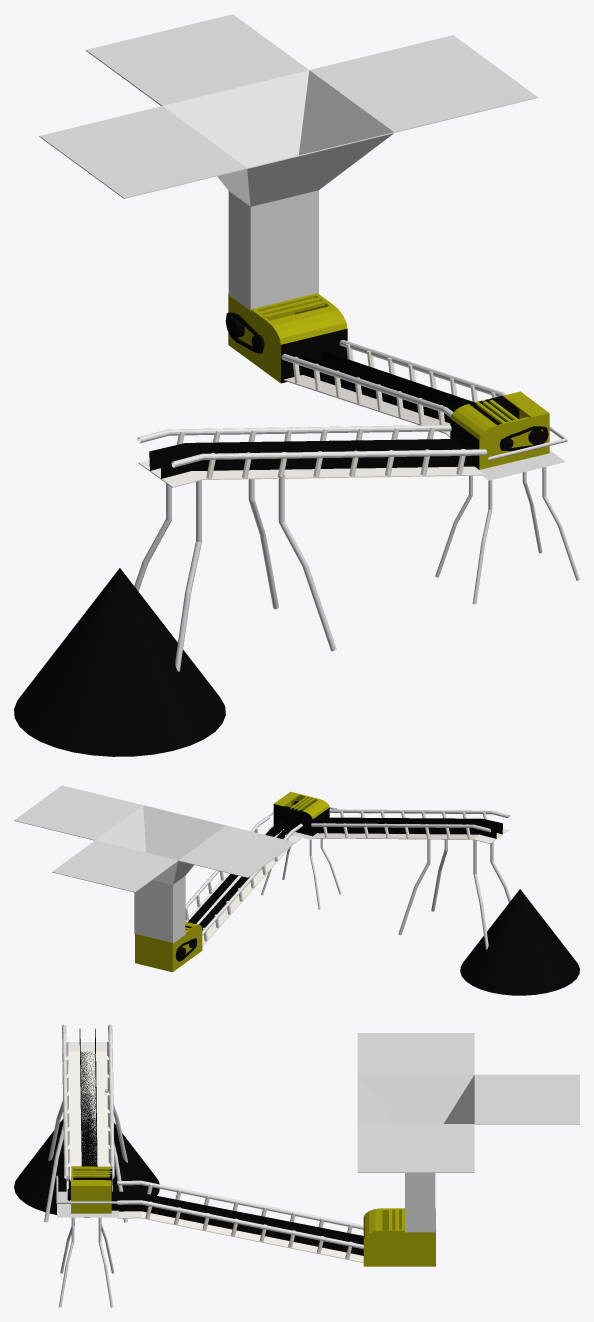
Rendered from Coal Crushing.fbx.
3 views of the same model, one above another, from view 1: azimuth 30°, elevation 25°; view 2: azimuth 150°, elevation 25°; view 3: azimuth 270°, elevation 25° (orthographic). The views are drawn at different scales.
Visible parts, largest first — view 1: Cube, Cone, Cube.005, Cube.001, Cube.002, Cube.003, Cube.006, BezierCurve.002, BezierCurve, Cube.004; view 2: Cube, Cone, Cube.005, Cube.002, Cube.001, Cube.003, Cube.006, BezierCurve.002, Cube.004, BezierCurve; view 3: Cube, Cube.002, Cube.005, Cone, Cube.001, Cube.004, Cube.003, Cube.006, BezierCurve, BezierCurve.002.
Part boxes in pixels (x1,y1,x2,y2): Cube: [39, 14, 537, 310]; Cone: [14, 568, 225, 756]; Cube.005: [138, 427, 484, 487]; Cube.001: [225, 293, 347, 383]; Cube.002: [283, 344, 505, 437]; Cube.003: [450, 391, 549, 469]; Cube.006: [137, 425, 486, 467]; BezierCurve.002: [134, 475, 336, 671]; BezierCurve: [435, 450, 579, 604]; Cube.004: [281, 340, 506, 417]; Cube: [14, 785, 295, 943]; Cone: [460, 889, 579, 995]; Cube.005: [312, 810, 508, 843]; Cube.002: [185, 820, 301, 946]; Cube.001: [135, 921, 202, 972]; Cube.003: [273, 791, 329, 836]; Cube.006: [311, 809, 509, 832]; BezierCurve.002: [398, 836, 511, 949]; Cube.004: [185, 815, 302, 935]; BezierCurve: [261, 825, 341, 909]; Cube: [357, 1033, 579, 1232]; Cube.002: [111, 1184, 363, 1262]; Cube.005: [66, 1028, 112, 1192]; Cone: [14, 1119, 159, 1217]; Cube.001: [363, 1208, 435, 1266]; Cube.004: [117, 1180, 363, 1249]; Cube.003: [67, 1166, 112, 1213]; Cube.006: [62, 1024, 114, 1178]; BezierCurve: [57, 1191, 118, 1307]; BezierCurve.002: [44, 1089, 127, 1222].
Size of the model in its own units: 7682 by 3339 by 7738.
